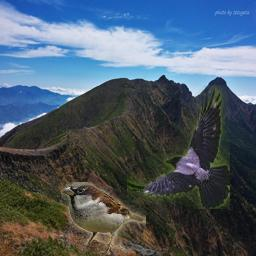Crow: (127, 85, 230, 209)
Sparrow: (61, 182, 146, 255)
